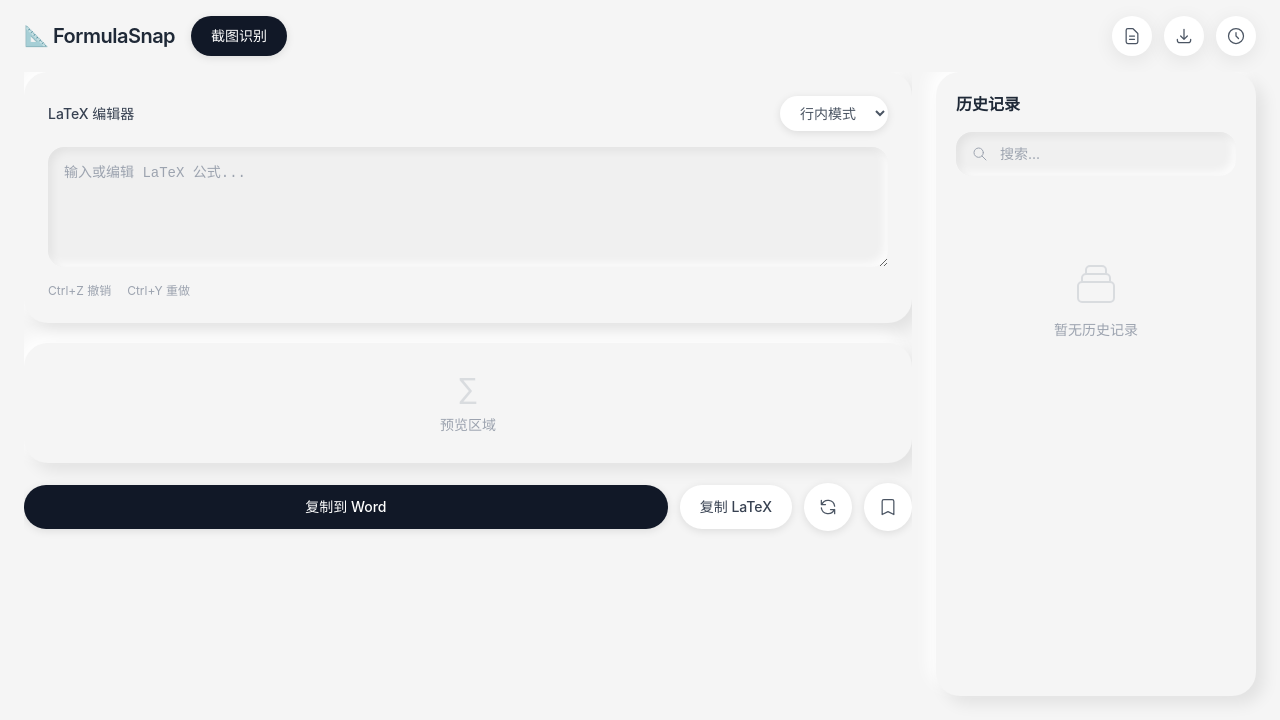
Test: App Shell › toggles sidebar visibility when toggle button is clicked
Expected: the element with test id "history-sidebar" is shown, [936, 72, 1256, 696]
Click the button with test id "sidebar-toggle-btn" at (1236, 36), box [1216, 16, 1256, 56]
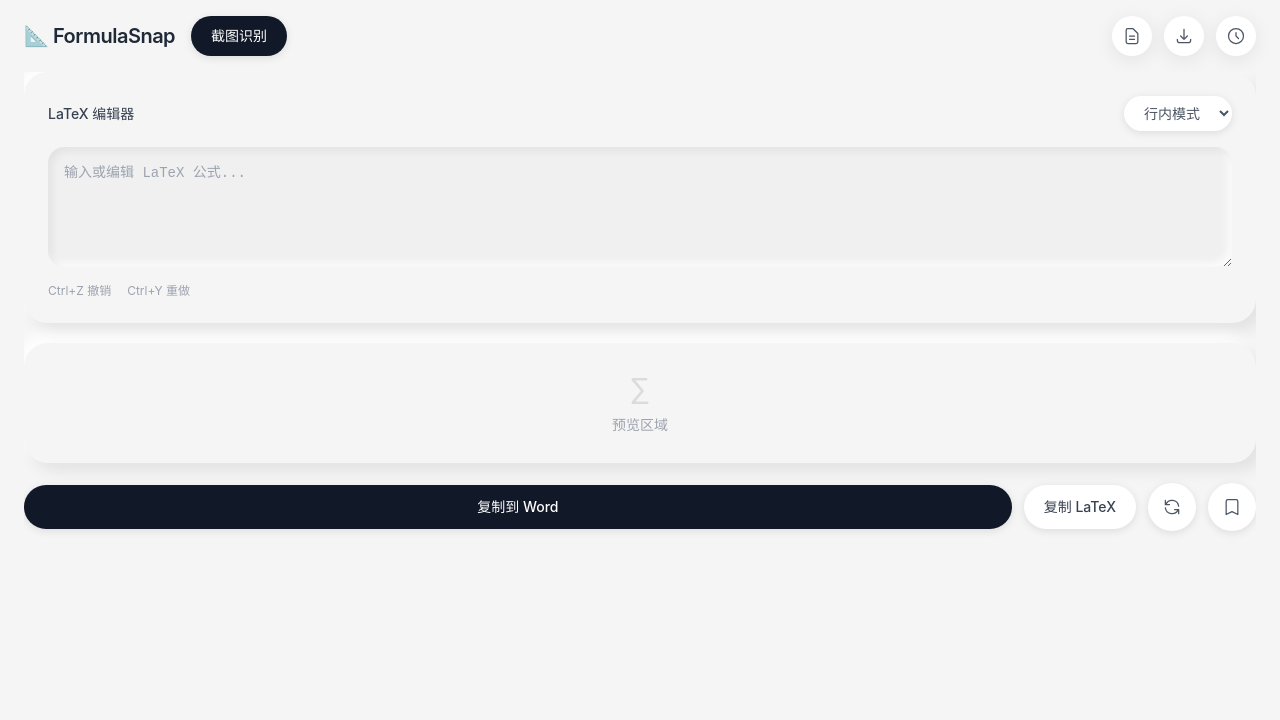
Expected: the element with test id "history-sidebar" is gone
Click the button with test id "sidebar-toggle-btn" at (1236, 36), box [1216, 16, 1256, 56]
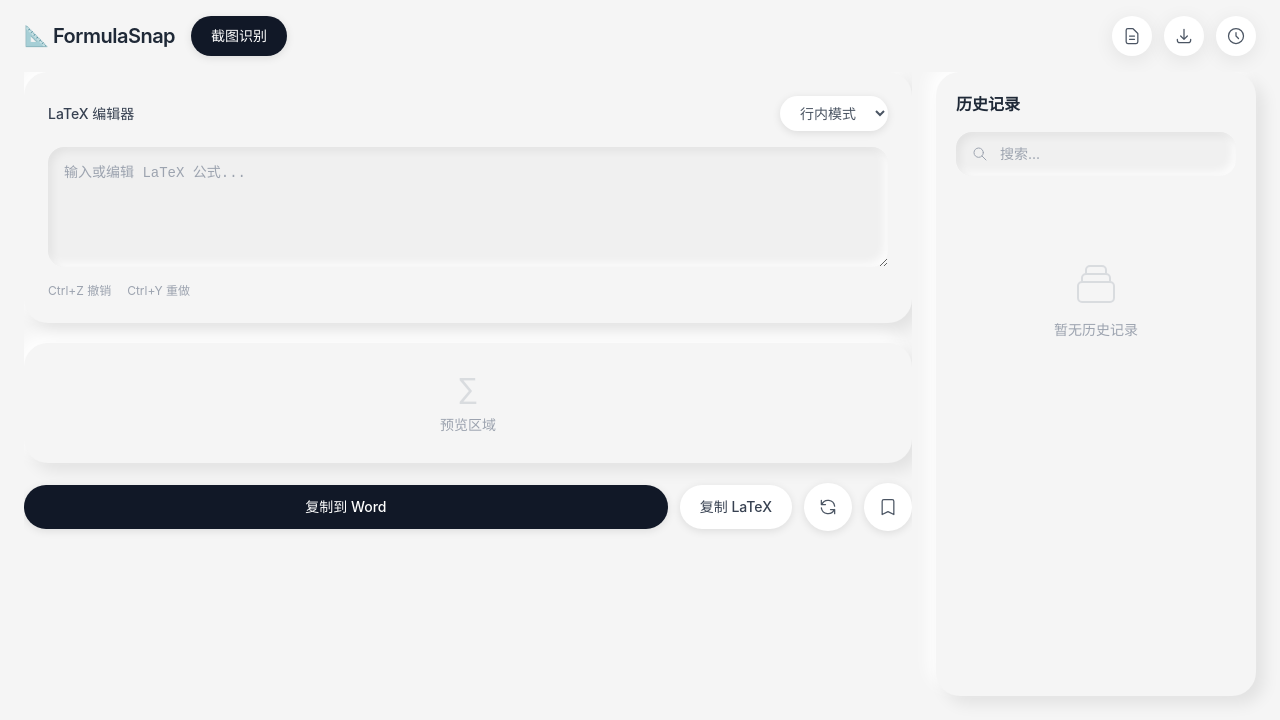
Expected: the element with test id "history-sidebar" is shown, [936, 72, 1256, 696]
